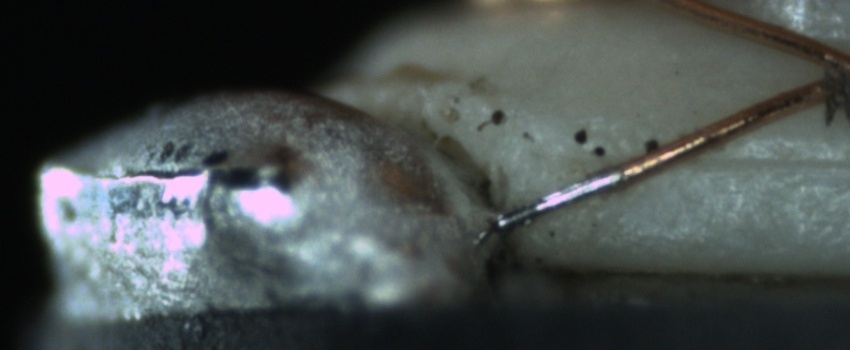CL: (799, 39, 850, 104)
DL: (679, 127, 847, 191)
TS: (485, 167, 620, 231)
